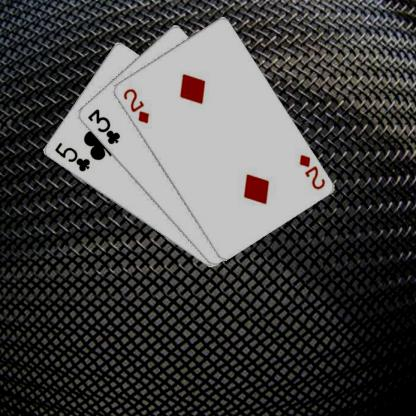2D: (296, 152, 326, 191), (120, 86, 150, 124)
3C: (85, 106, 121, 146)
5C: (52, 140, 91, 173)
